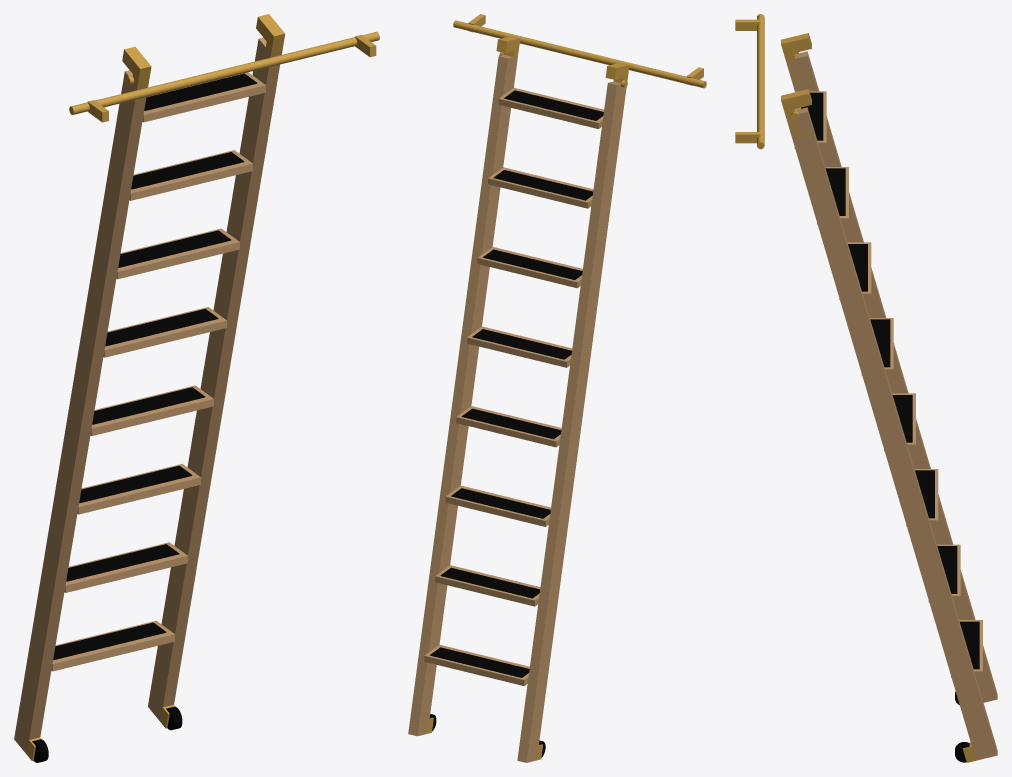
Rendered from 085_rolling_library_ladder.glb.
3 renders of one model, left to right at view 1: azimuth 30°, elevation 25°; view 2: azimuth 150°, elevation 25°; view 3: azimuth 270°, elevation 25°, orthographic. The views are drawn at different scales.
Parts seen in each view (by area): view 1: 000_stile, 001_stile, 026_wall_rail_section, 006_tread, 002_tread, 004_tread, 008_tread, 010_tread, 014_tread, 012_tread, 016_tread, 015_tread_anti_slip (+9 smaller); view 2: 000_stile, 001_stile, 026_wall_rail_section, 006_tread, 014_tread, 016_tread, 002_tread, 012_tread, 008_tread, 004_tread, 010_tread, 007_tread_anti_slip (+7 smaller); view 3: 001_stile, 000_stile, 026_wall_rail_section, 022_top_hook, 018_top_hook, 011_tread_anti_slip, 005_tread_anti_slip, 003_tread_anti_slip, 015_tread_anti_slip, 009_tread_anti_slip, 007_tread_anti_slip, 013_tread_anti_slip (+1 smaller).
Part boxes in pixels (bbox=[...]): 000_stile: bbox=[14, 70, 148, 753]; 001_stile: bbox=[148, 37, 282, 721]; 026_wall_rail_section: bbox=[69, 31, 379, 114]; 006_tread: bbox=[77, 463, 200, 514]; 002_tread: bbox=[51, 620, 174, 671]; 004_tread: bbox=[64, 542, 187, 592]; 008_tread: bbox=[90, 385, 213, 435]; 010_tread: bbox=[103, 307, 226, 357]; 014_tread: bbox=[129, 150, 252, 200]; 012_tread: bbox=[116, 228, 239, 279]; 016_tread: bbox=[142, 72, 265, 122]; 015_tread_anti_slip: bbox=[131, 152, 244, 189]; 000_stile: bbox=[517, 81, 626, 762]; 001_stile: bbox=[408, 55, 517, 736]; 026_wall_rail_section: bbox=[453, 20, 706, 88]; 006_tread: bbox=[445, 485, 550, 526]; 014_tread: bbox=[488, 167, 593, 208]; 016_tread: bbox=[498, 87, 603, 128]; 002_tread: bbox=[424, 644, 529, 685]; 012_tread: bbox=[477, 247, 582, 288]; 008_tread: bbox=[456, 406, 561, 447]; 004_tread: bbox=[435, 565, 540, 606]; 010_tread: bbox=[467, 326, 572, 367]; 007_tread_anti_slip: bbox=[451, 488, 550, 518]; 001_stile: bbox=[786, 107, 997, 760]; 000_stile: bbox=[786, 51, 997, 702]; 026_wall_rail_section: bbox=[757, 14, 764, 149]; 022_top_hook: bbox=[781, 89, 813, 139]; 018_top_hook: bbox=[781, 33, 813, 83]; 011_tread_anti_slip: bbox=[870, 319, 890, 367]; 005_tread_anti_slip: bbox=[937, 546, 957, 593]; 003_tread_anti_slip: bbox=[960, 621, 979, 669]; 015_tread_anti_slip: bbox=[825, 168, 845, 215]; 009_tread_anti_slip: bbox=[892, 395, 912, 442]; 007_tread_anti_slip: bbox=[915, 470, 934, 518]; 013_tread_anti_slip: bbox=[848, 244, 867, 291].
Bounding box in the file's own units: 0.95 × 2.31 × 0.8216.
